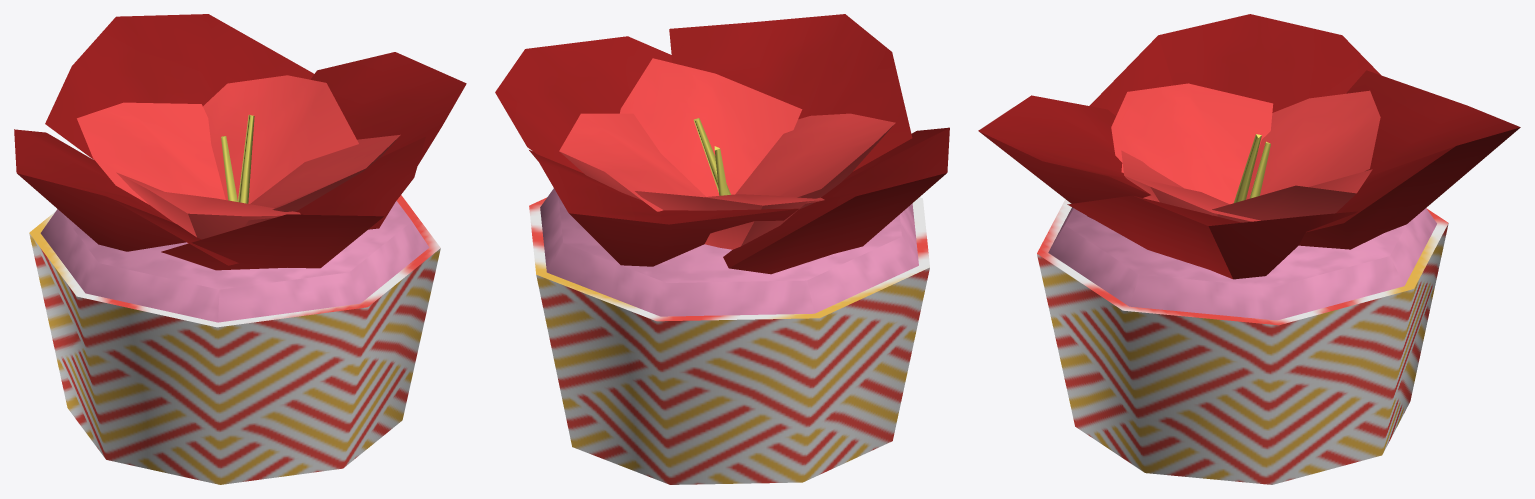
Rendered from Cupcake_B.FBX.
3 renders of one model, left to right at view 1: azimuth 30°, elevation 25°; view 2: azimuth 150°, elevation 25°; view 3: azimuth 270°, elevation 25°, orthographic. The views are drawn at different scales.
Visible parts, largest first — view 1: Cupcake_B; view 2: Cupcake_B; view 3: Cupcake_B.
Part boxes in pixels (bbox=[...]): Cupcake_B: bbox=[14, 14, 466, 484]; Cupcake_B: bbox=[495, 14, 949, 484]; Cupcake_B: bbox=[978, 14, 1520, 484].
Size of the model in its own units: 38.73 by 26.15 by 41.87.
